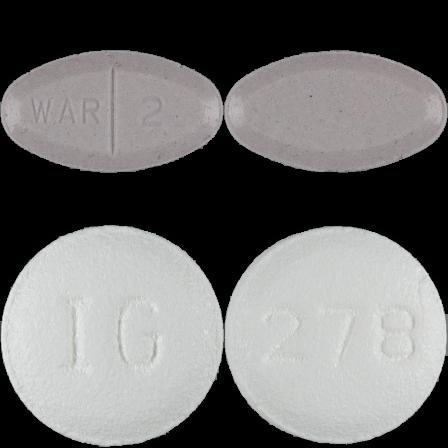50436-9946: (0, 0, 224, 224)
